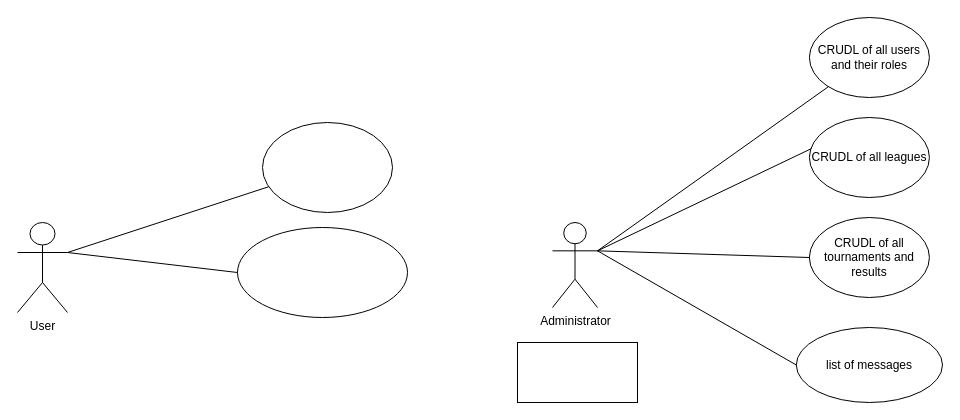
Image size: 960x420. Some labels were removed from this diagram. The centre of each missing label's shape, as x and y in pixels:
"Already registered in the system" belongs at pixel 577 372.
"login (and select the role if he is both administrator and league manager)" belongs at pixel 322 272.
"signup => player or league manager with validation" belongs at pixel 327 167.
